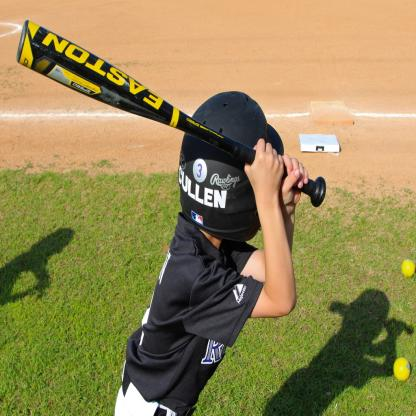Helmet: (174, 84, 274, 247)
